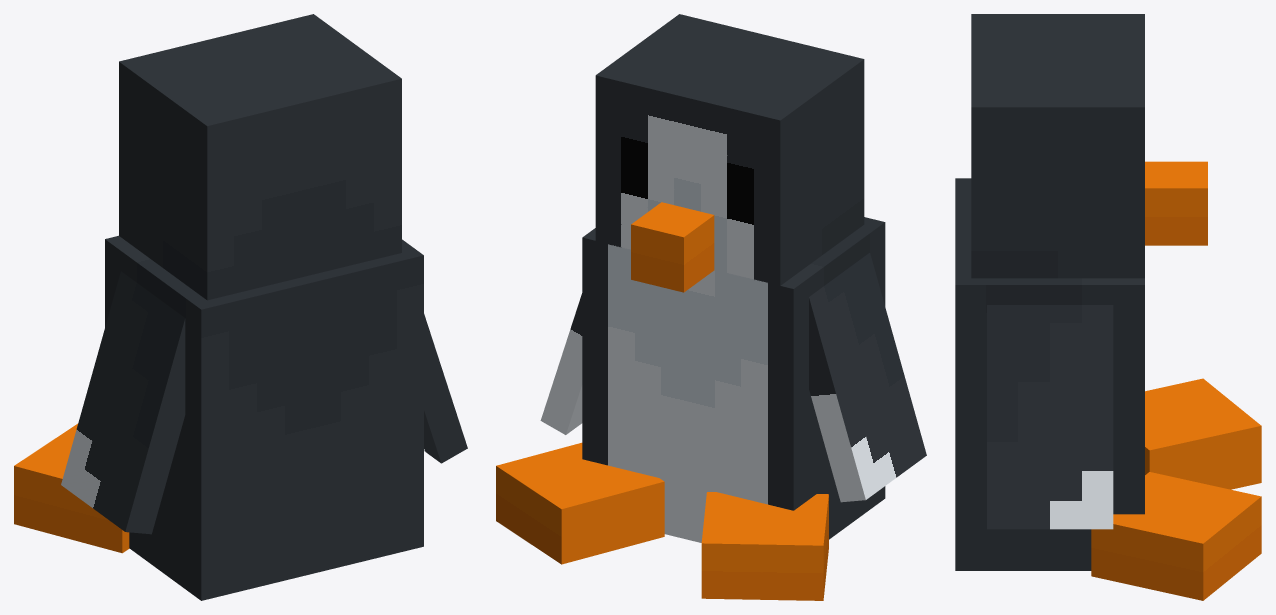
Rendered from Penguin.fbx.
The picture shows the model from 3 angles, left to right: view 1: azimuth 30°, elevation 25°; view 2: azimuth 150°, elevation 25°; view 3: azimuth 270°, elevation 25°; orthographic projection. The views are drawn at different scales.
Parts seen in each view (by area): view 1: cube, cube_1, WingL, FootL, WingR; view 2: cube, cube_1, WingL, FootR, FootL, cube_2, WingR; view 3: cube_1, WingR, cube, FootR, FootL, cube_2.
Boxes of the visible parts, x1,y1,x2,y2 form: cube: [105, 235, 423, 600]; cube_1: [119, 14, 401, 300]; WingL: [61, 271, 185, 534]; FootL: [14, 423, 129, 553]; WingR: [424, 314, 467, 463]; cube: [582, 217, 885, 542]; cube_1: [595, 14, 864, 285]; WingL: [809, 253, 926, 502]; FootR: [496, 442, 664, 564]; FootL: [701, 492, 828, 600]; cube_2: [631, 202, 714, 292]; WingR: [540, 293, 582, 434]; cube_1: [971, 14, 1144, 278]; WingR: [987, 305, 1113, 529]; cube: [955, 178, 1144, 570]; FootR: [1091, 472, 1261, 600]; FootL: [1145, 378, 1261, 489]; cube_2: [1145, 161, 1207, 245].
Size of the model in its own units: 38.73 by 50 by 30.3.
1 material, 1 textured.
